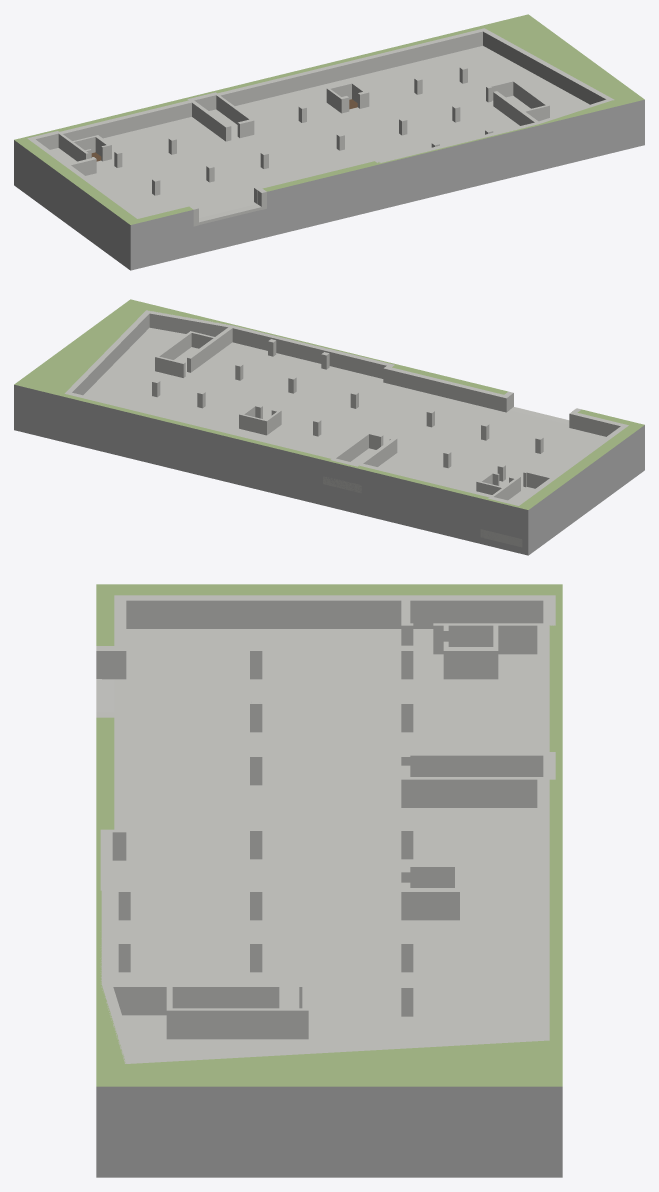
File: SnowdownTowers_Rooftop.glb
3 views of the same model, one above another, from view 1: azimuth 30°, elevation 25°; view 2: azimuth 150°, elevation 25°; view 3: azimuth 270°, elevation 25° (orthographic). The views are drawn at different scales.
Parts seen in each view (by area): view 1: Toposolid[1264746], Floor[773528], Basic Wall[676632], Basic Wall[600852], Basic Wall[677214], Basic Wall[602901], Basic Wall[587034], Basic Wall[587489], Basic Wall[601278], Basic Wall[587487], Basic Wall[587032], Floor[1266992] (+2 smaller); view 2: Toposolid[1264746], Floor[773528], Basic Wall[601278], Basic Wall[600852], Basic Wall[601097], Basic Wall[603528], Basic Wall[601472], Basic Wall[587034], Basic Wall[676632], Basic Wall[587489], Basic Wall[587032], Basic Wall[587487] (+5 smaller); view 3: Floor[773528], Toposolid[1264746], Basic Wall[600929], Basic Wall[587034], Basic Wall[587032], Basic Wall[587487], Basic Wall[794203], Basic Wall[587489], Basic Wall[676632], Basic Wall[600852], Basic Wall[601278], Basic Wall[676861] (+8 smaller).
Boxes of the visible parts, x1,y1,x2,y2 form: Toposolid[1264746]: (14,14,644,270); Floor[773528]: (86,46,589,217); Basic Wall[676632]: (217,42,428,105); Basic Wall[600852]: (483,30,614,104); Basic Wall[677214]: (60,100,191,140); Basic Wall[602901]: (426,28,487,58); Basic Wall[587034]: (487,87,538,125); Basic Wall[587489]: (187,98,229,141); Basic Wall[601278]: (381,122,539,162); Basic Wall[587487]: (214,92,254,135); Basic Wall[587032]: (512,79,549,118); Floor[1266992]: (199,204,261,224); Toposolid[1264746]: (14,299,644,555); Floor[773528]: (83,327,605,490); Basic Wall[601278]: (231,325,389,378); Basic Wall[600852]: (67,310,151,395); Basic Wall[601097]: (466,386,623,436); Basic Wall[603528]: (388,367,468,402); Basic Wall[601472]: (149,311,232,336); Basic Wall[587034]: (181,327,232,376); Basic Wall[676632]: (124,406,334,458); Basic Wall[587489]: (355,438,397,466); Basic Wall[587032]: (155,331,192,371); Basic Wall[587487]: (330,432,370,461); Floor[773528]: (112,629,537,1058); Toposolid[1264746]: (96,584,562,1177); Basic Wall[600929]: (114,595,401,628); Basic Wall[587034]: (112,983,302,1015); Basic Wall[587032]: (166,1008,308,1039); Basic Wall[587487]: (401,777,555,807); Basic Wall[794203]: (401,595,543,628); Basic Wall[587489]: (401,752,555,776); Basic Wall[676632]: (537,779,549,982); Basic Wall[600852]: (123,1036,537,1063); Basic Wall[601278]: (100,832,112,985); Basic Wall[676861]: (443,647,498,679).
Bounding box in the file's own units: 197 × 16.62 × 77.14.
